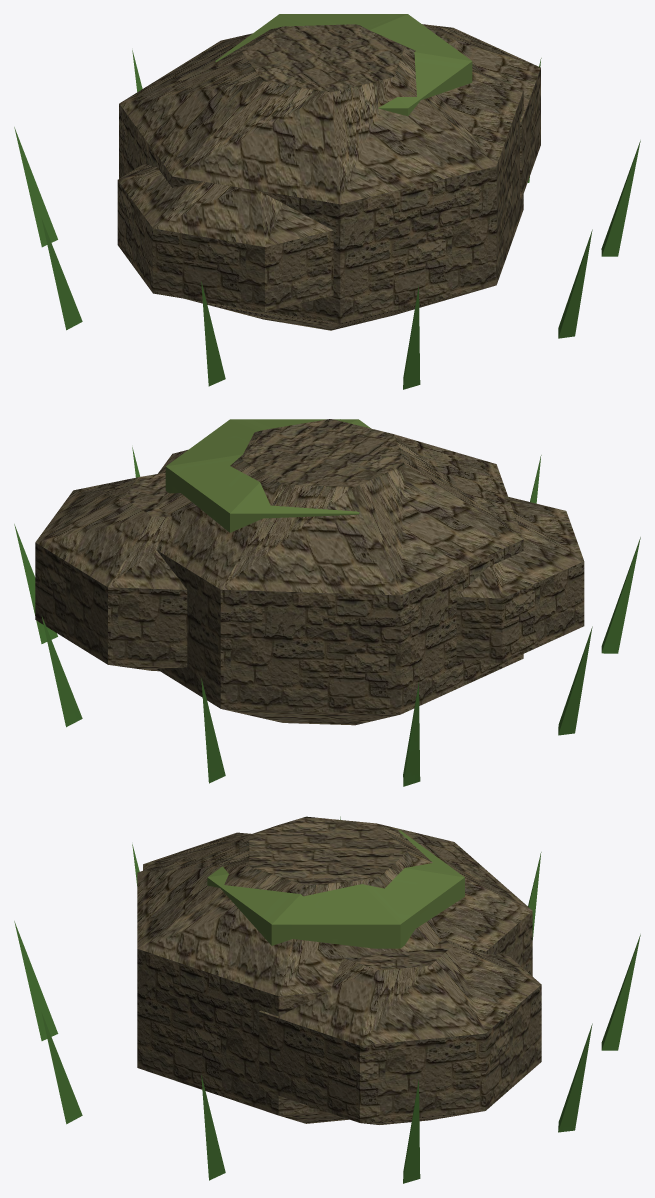
File: puzzle_stone_01.glb
3 views of the same model, one above another, from view 1: azimuth 30°, elevation 25°; view 2: azimuth 150°, elevation 25°; view 3: azimuth 270°, elevation 25° (orthographic).
Parts seen in each view (by area): view 1: puzzle_stone_01; view 2: puzzle_stone_01; view 3: puzzle_stone_01.
Part boxes in pixels (bbox=[...]): puzzle_stone_01: bbox=[14, 14, 640, 389]; puzzle_stone_01: bbox=[14, 419, 640, 786]; puzzle_stone_01: bbox=[14, 816, 640, 1183].
Bounding box in the file's own units: 1.09 × 0.462 × 1.1.
3 materials, 3 textured.
